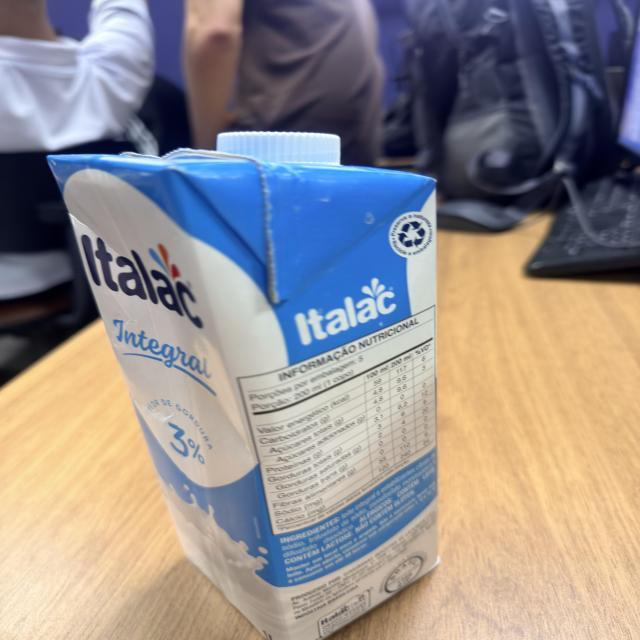Caixa de Leite: (49, 131, 442, 639)
